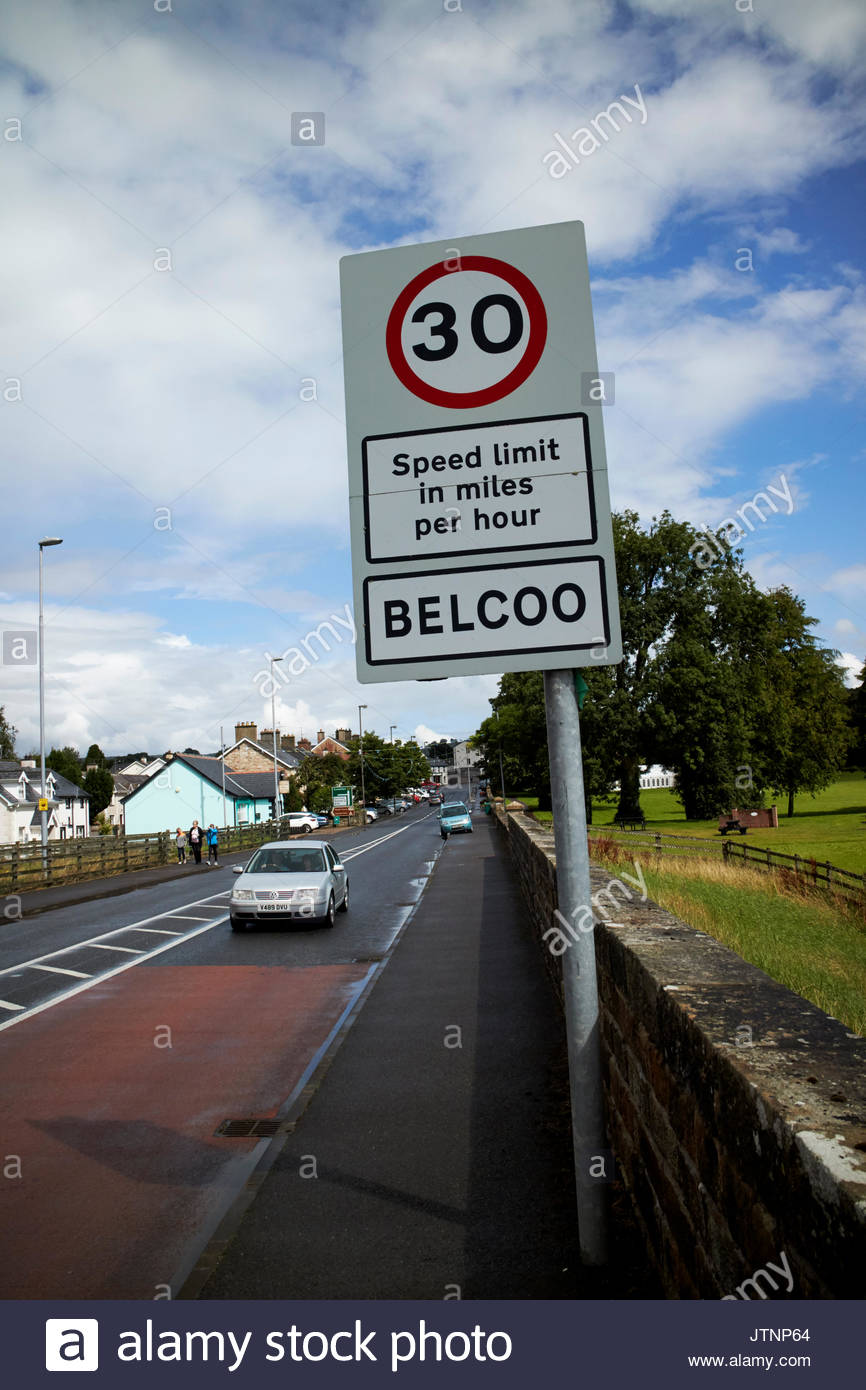speed_limit_30: (387, 256, 548, 411)
